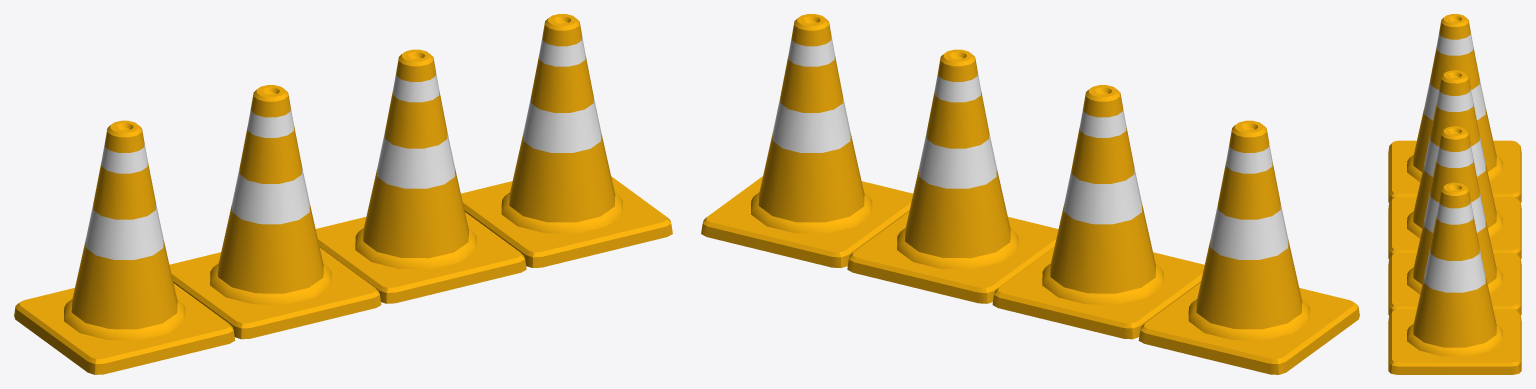
The model's file is trafficCones.glb.
The picture shows the model from 3 angles, left to right: view 1: azimuth 30°, elevation 25°; view 2: azimuth 150°, elevation 25°; view 3: azimuth 270°, elevation 25°; orthographic projection. The views are drawn at different scales.
Parts seen in each view (by area): view 1: trafficCones; view 2: trafficCones; view 3: trafficCones.
Boxes of the visible parts, x1,y1,x2,y2 form: trafficCones: [14, 14, 672, 374]; trafficCones: [701, 14, 1359, 374]; trafficCones: [1388, 14, 1521, 374].
Size of the model in its own units: 4.12 by 1.36 by 1.03.
